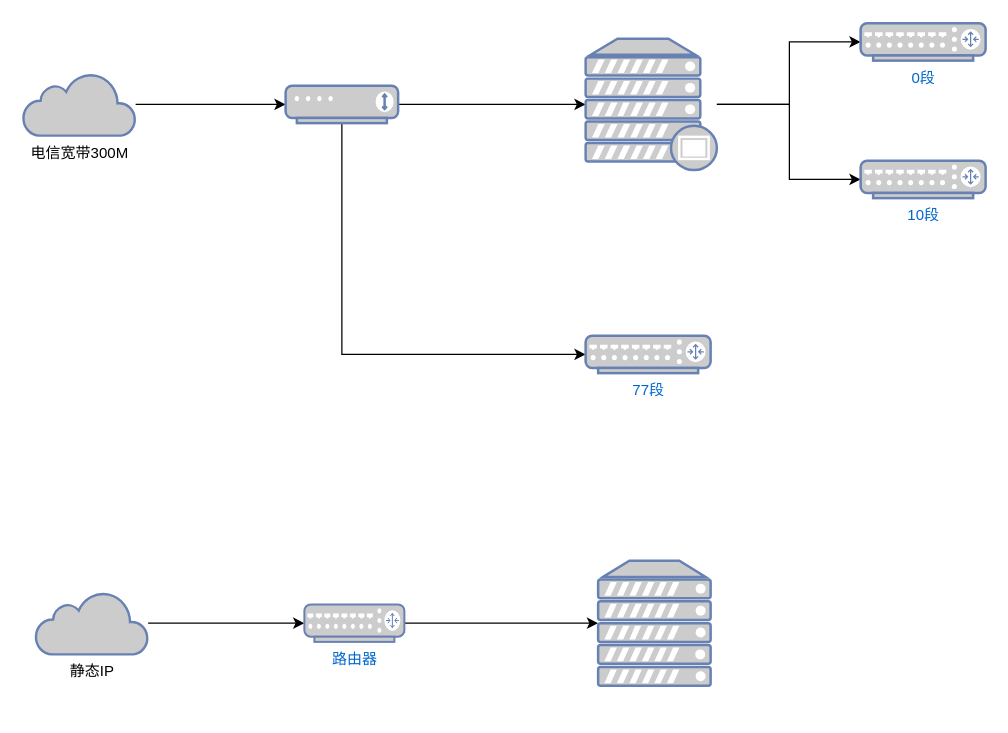
This 1008x733 diagram has some shape labels left out. Here are the shapes that lost their labels. From the top down, the box of each, then its label:
(284, 84, 399, 124): 光猫
(584, 37, 718, 171): 软路由
(596, 559, 711, 686): 外部服务器
